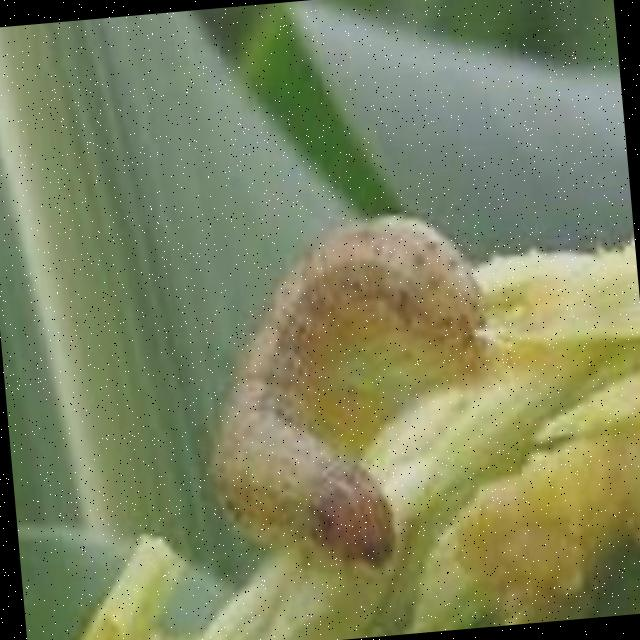worm: (188, 205, 513, 584)
